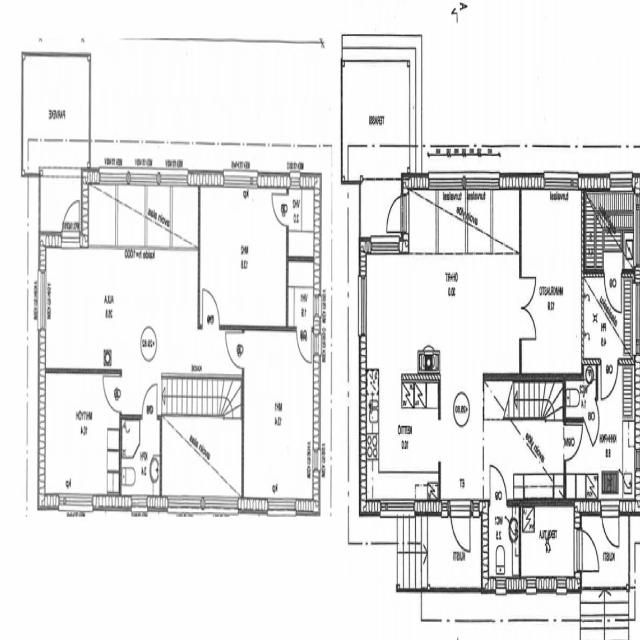door: (450, 499, 471, 559), (574, 529, 602, 571), (583, 397, 605, 443), (62, 194, 79, 248), (384, 196, 409, 232), (602, 499, 618, 553), (605, 271, 622, 316), (601, 359, 618, 400), (103, 378, 122, 412), (203, 292, 219, 332), (491, 467, 506, 508), (564, 426, 582, 460), (297, 326, 312, 364), (142, 383, 157, 421), (227, 335, 244, 367), (520, 309, 536, 341), (520, 278, 536, 309), (272, 196, 288, 226)
